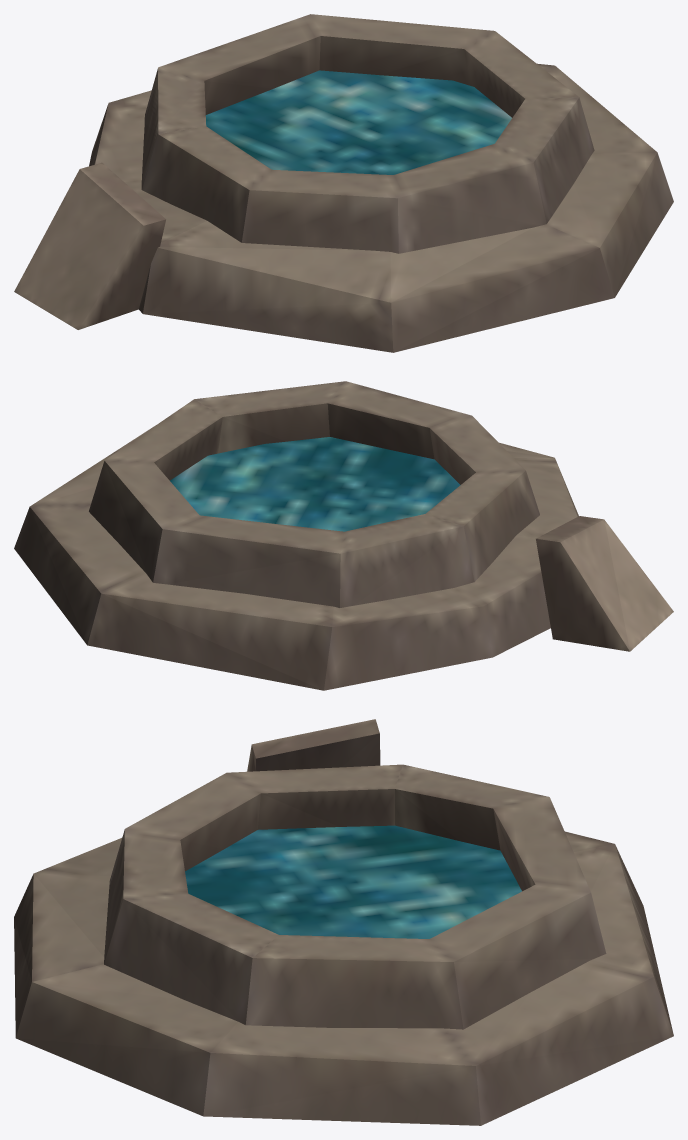
Rendered from Area_13_13.fbx.
The picture shows the model from 3 angles, top to bottom: view 1: azimuth 30°, elevation 25°; view 2: azimuth 150°, elevation 25°; view 3: azimuth 270°, elevation 25°; orthographic projection. The views are drawn at different scales.
Parts seen in each view (by area): view 1: Area_13_13; view 2: Area_13_13; view 3: Area_13_13.
Boxes of the visible parts, bbox=[...] form: Area_13_13: bbox=[14, 14, 673, 352]; Area_13_13: bbox=[14, 381, 673, 690]; Area_13_13: bbox=[14, 719, 673, 1125].
Size of the model in its own units: 471 by 81.31 by 398.
